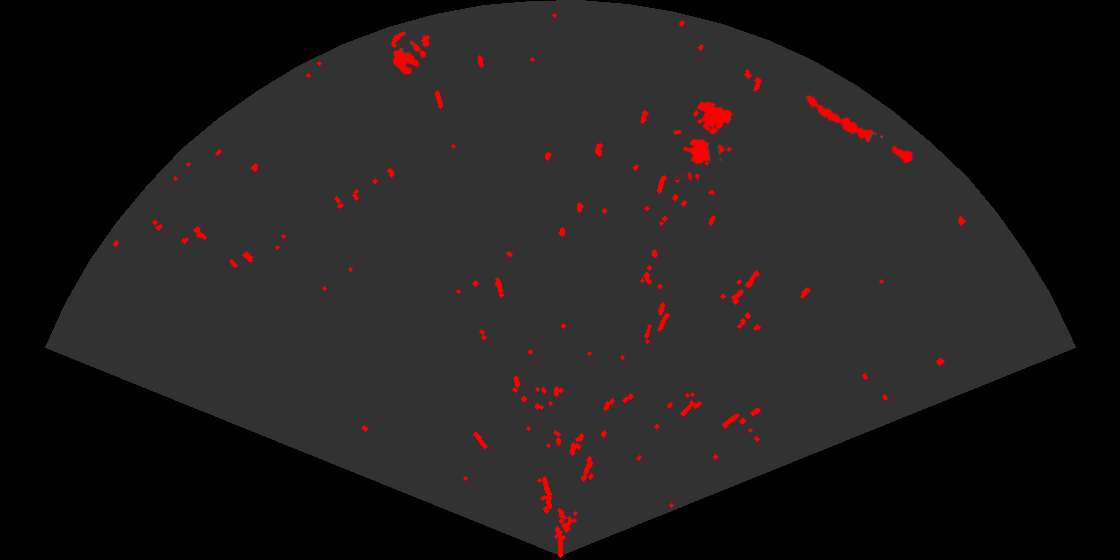ball: (391, 39, 428, 76)
cage: (674, 99, 734, 180)
chain: (804, 93, 915, 165)
